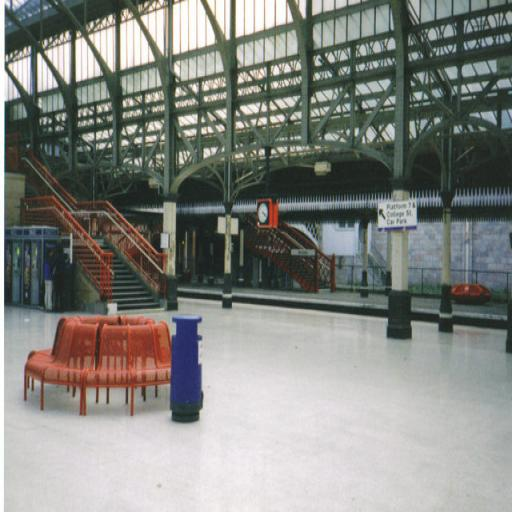platform_edge: (215, 285, 512, 335)
